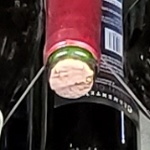bottle: (23, 35, 118, 110)
